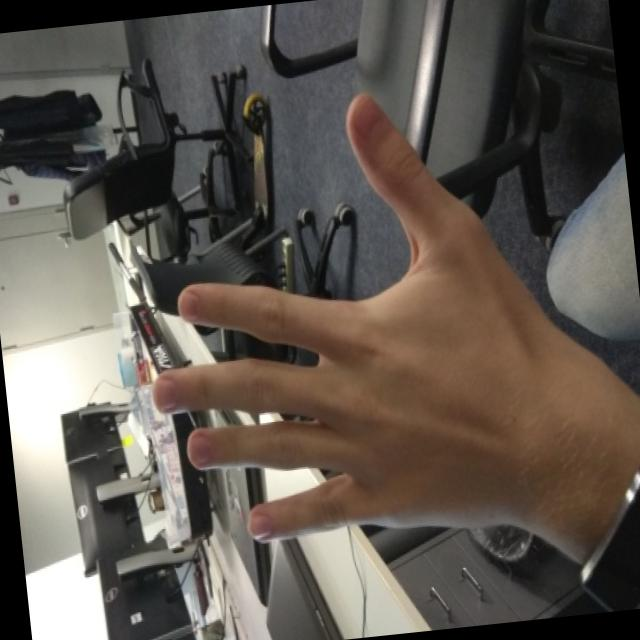Nail: (349, 92, 387, 142), (189, 433, 215, 465), (155, 377, 179, 408), (178, 288, 202, 318), (245, 514, 273, 539)
